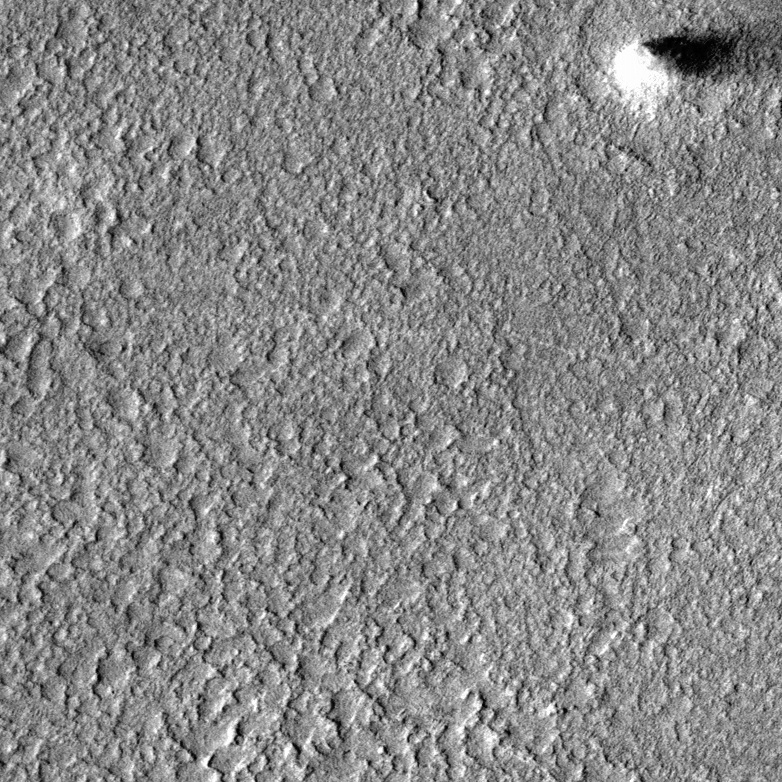dust_devil: (609, 17, 782, 113)
